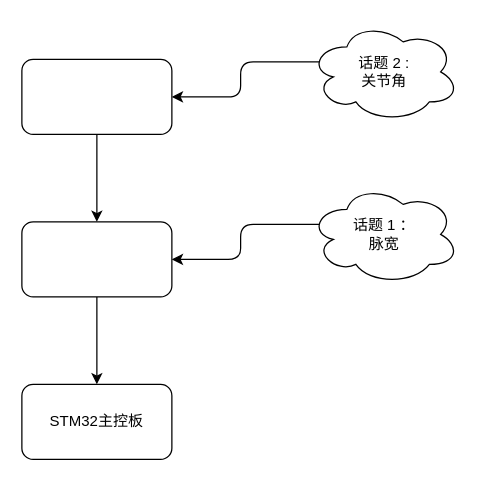
Image size: 481x481. Some labels were removed from this diagram. Each missing label, with the centre of its shape:
关节角转脉宽节点: pixel 96 96
脉宽转串口: pixel 96 259
